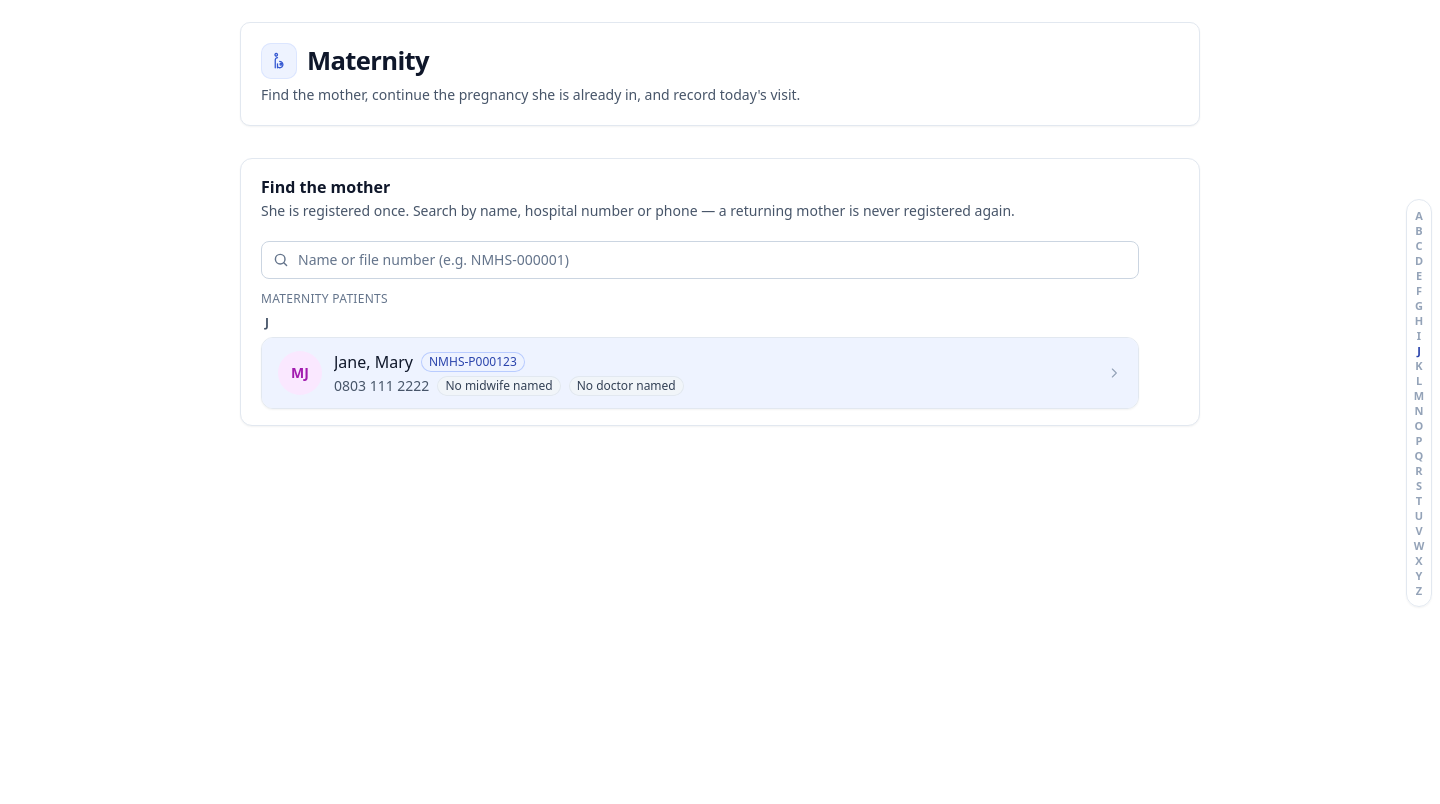
Test: the maternity workspace › says so plainly when no ANC visit has been recorded yet
The image size is (1440, 804).
Click the dropdown named "Search maternity patients": (700, 260) [261,241,1139,279]
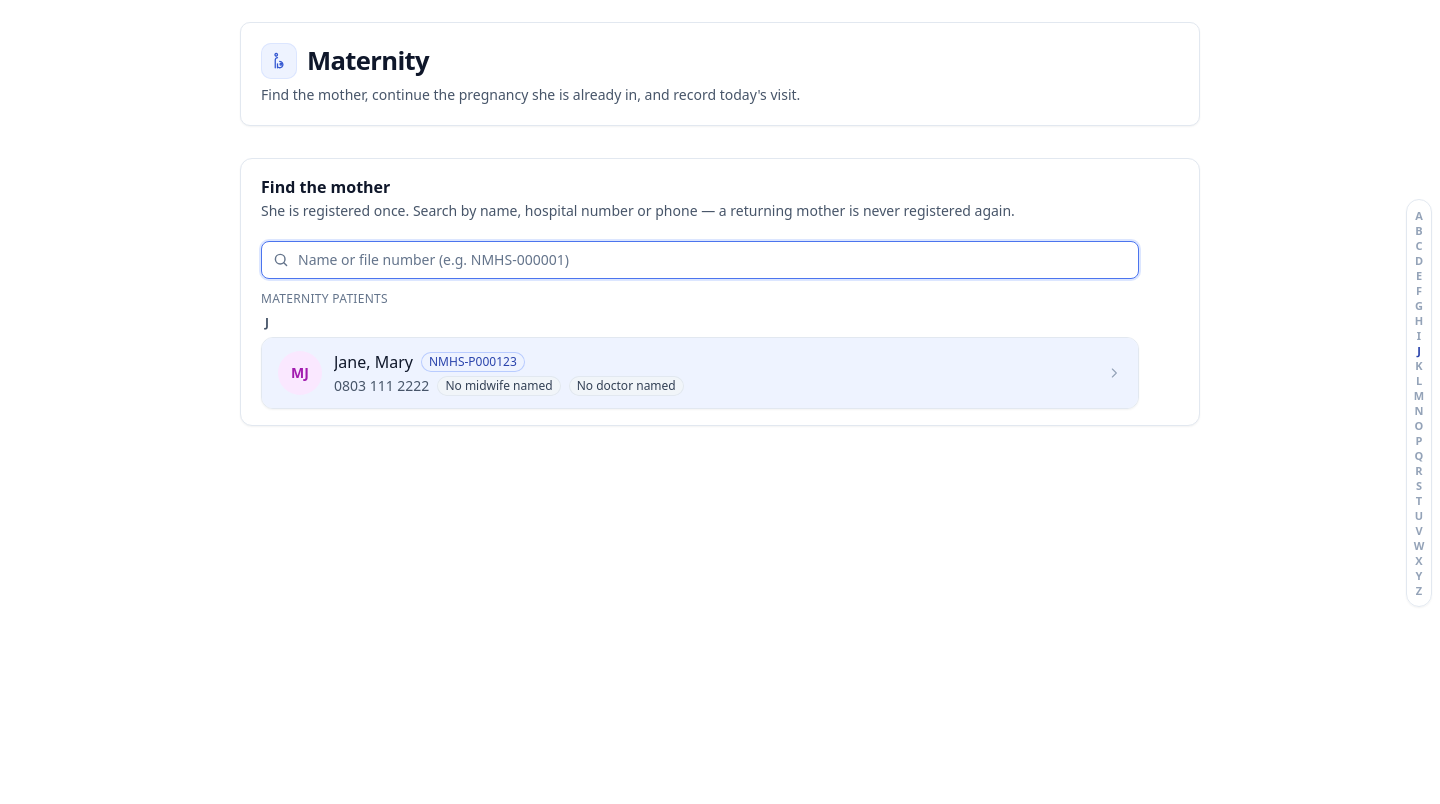
Click the option "Jane, Mary": (300, 373) [262,338,1138,408]
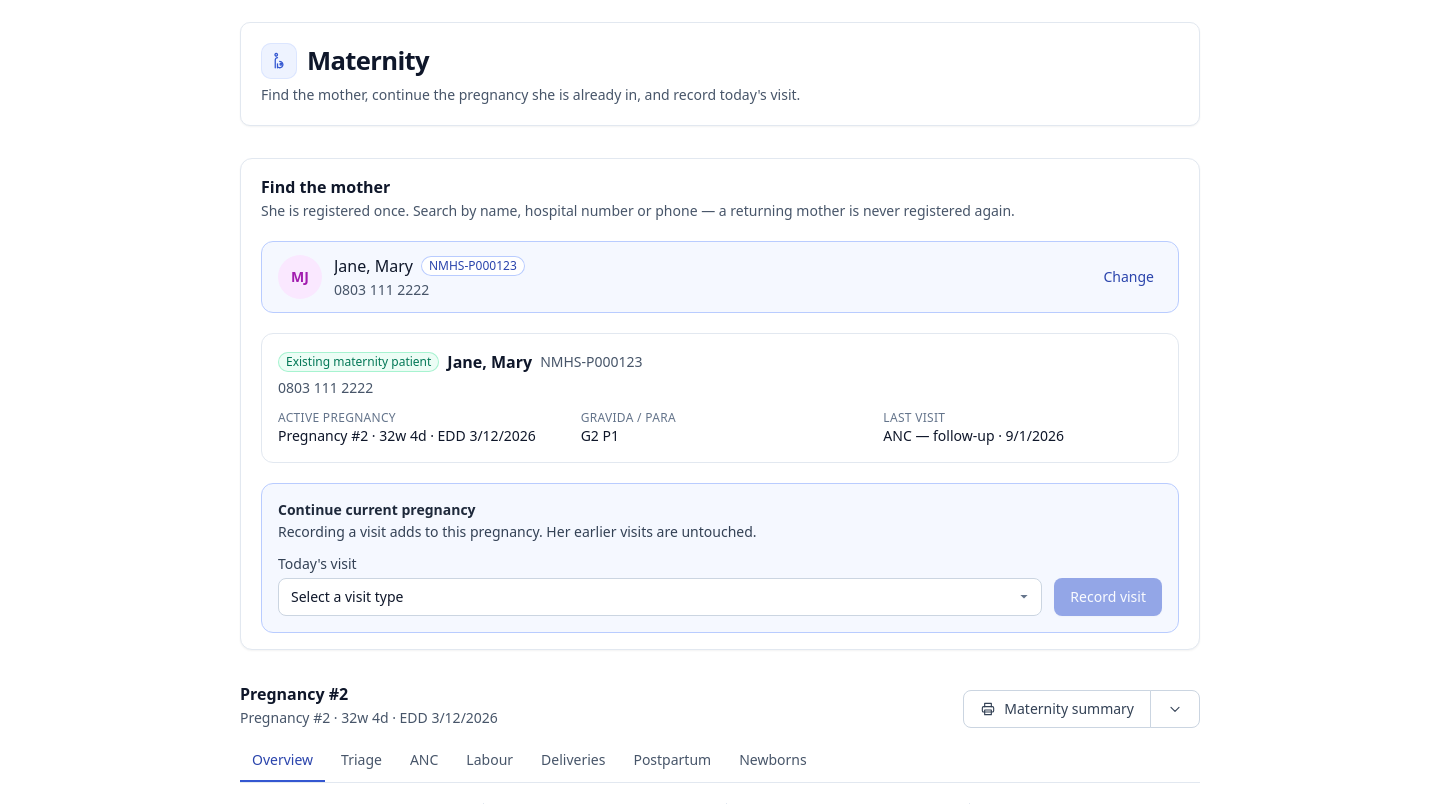
Click the button "ANC": (424, 761) [398,740,450,782]
(page scrolled)
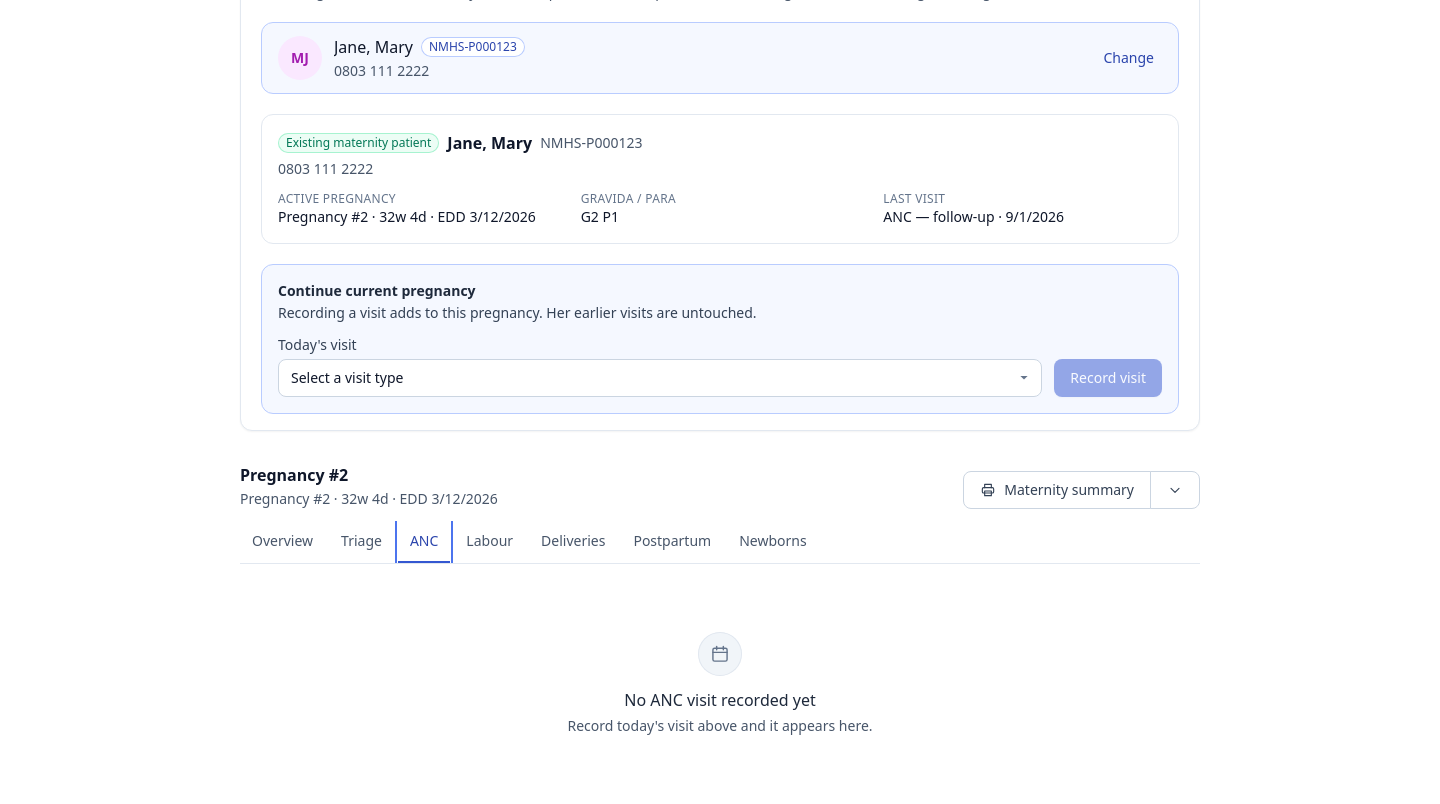
Now the text "No ANC visit recorded yet" is shown, box [624,689,816,711]
